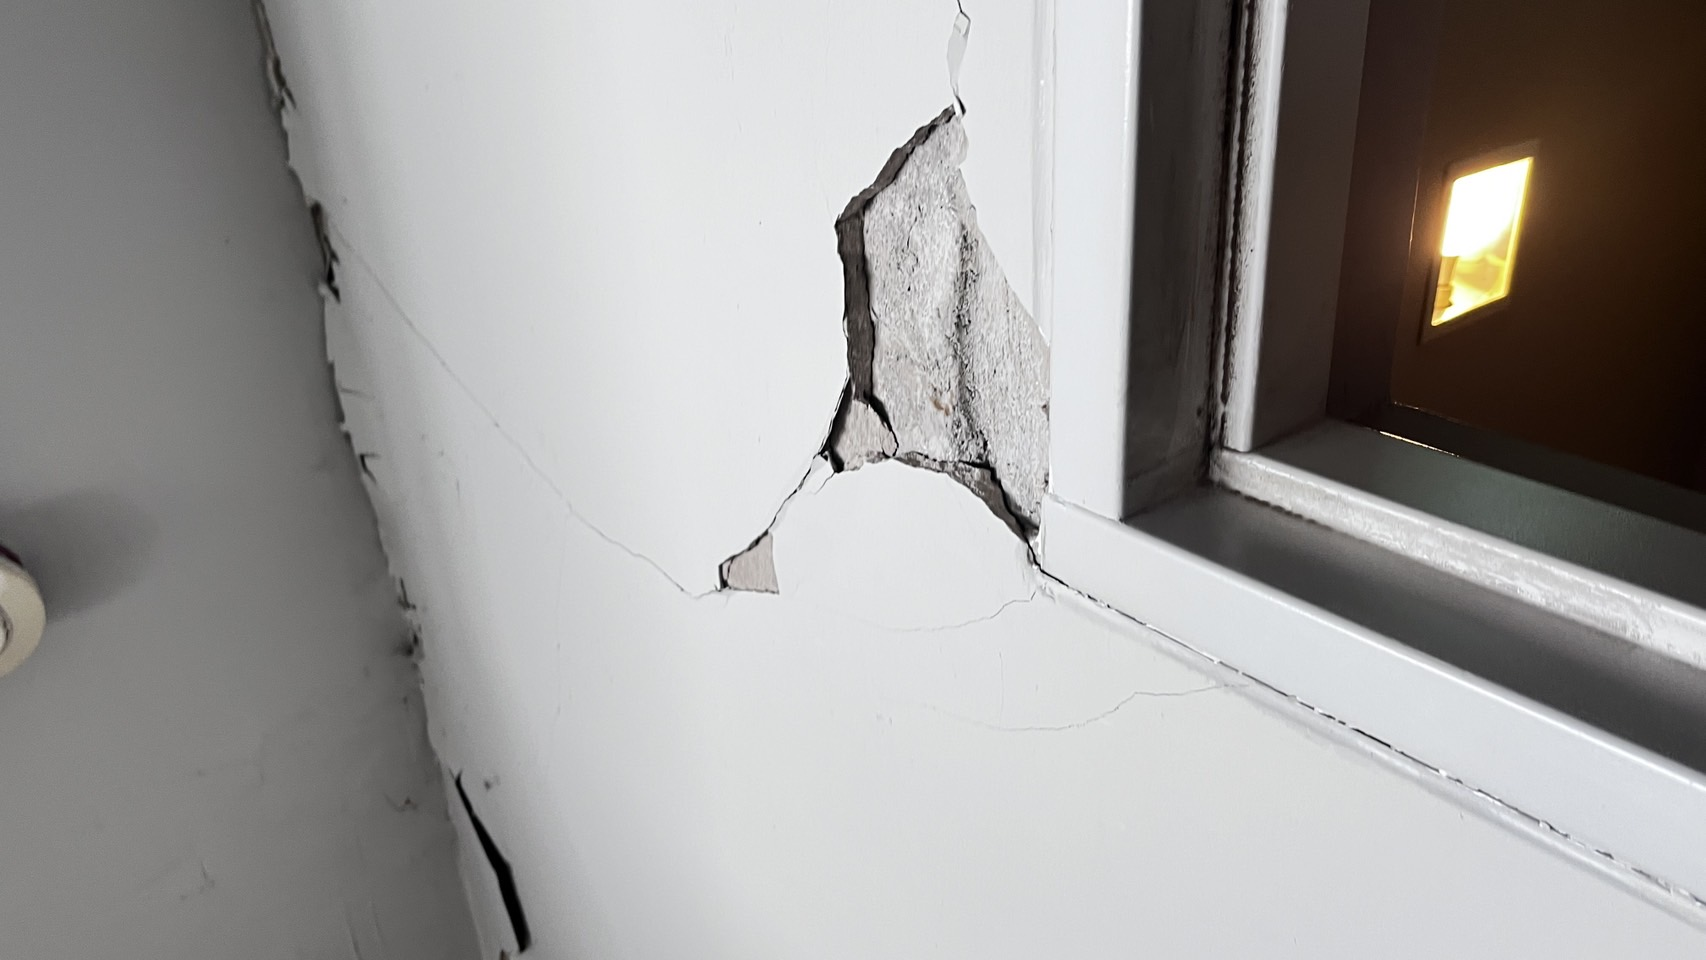Medium: (669, 8, 1044, 619)
